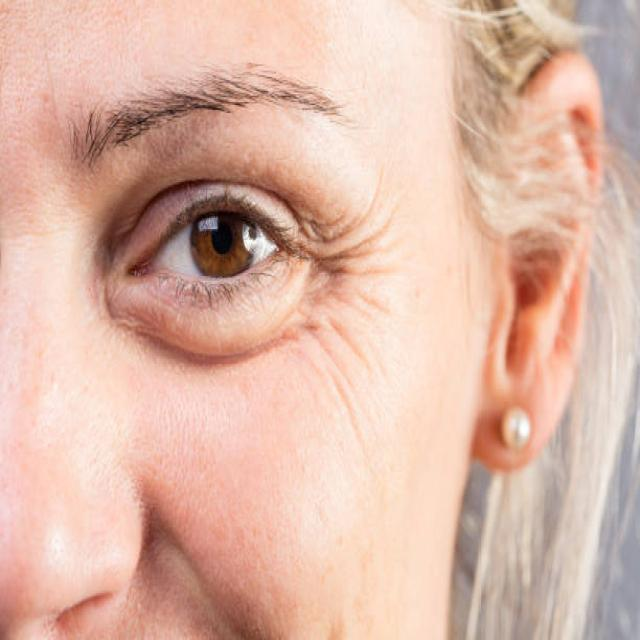Dry-Skin: (307, 254, 461, 458), (71, 387, 199, 582), (308, 70, 452, 232), (203, 337, 287, 528), (297, 471, 402, 617), (66, 7, 137, 195)
